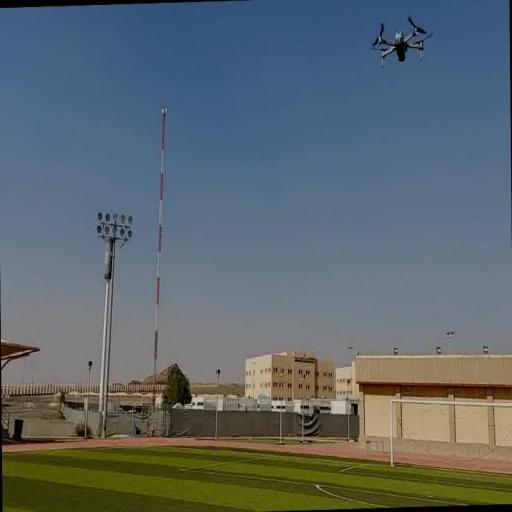drone: (371, 16, 427, 67)
